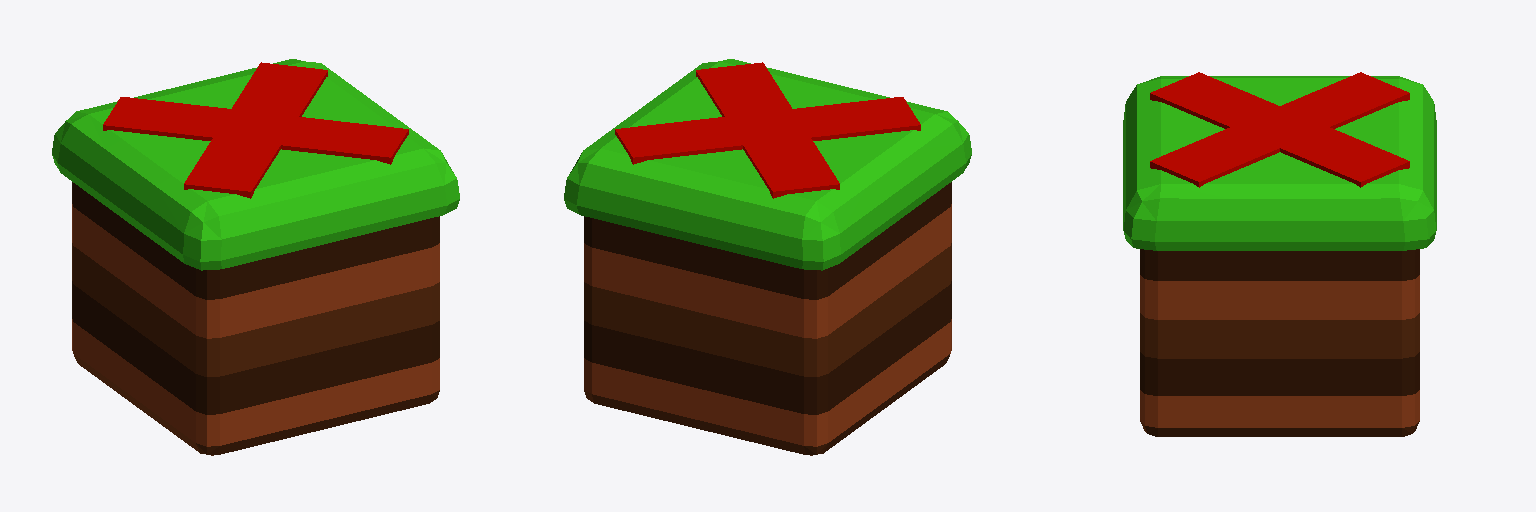
Rendered from XLightGrass.obj.
3 renders of one model, left to right at view 1: azimuth 30°, elevation 25°; view 2: azimuth 150°, elevation 25°; view 3: azimuth 270°, elevation 25°, orthographic.
Parts seen in each view (by area): view 1: Cube_Grass_Single_Cube.276; view 2: Cube_Grass_Single_Cube.276; view 3: Cube_Grass_Single_Cube.276.
Boxes of the visible parts, x1=… form: Cube_Grass_Single_Cube.276: x1=52, y1=59, x2=459, y2=455; Cube_Grass_Single_Cube.276: x1=564, y1=59, x2=971, y2=455; Cube_Grass_Single_Cube.276: x1=1123, y1=72, x2=1436, y2=436.
Size of the model in its own units: 1.12 by 1.01 by 1.12.